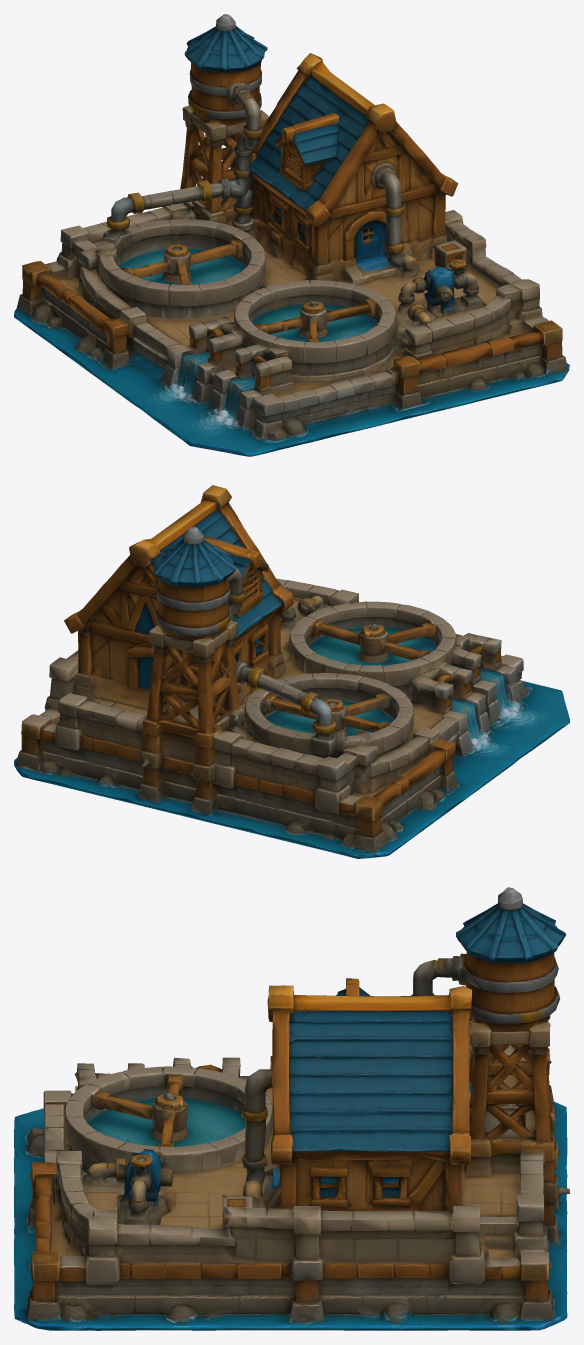
File: waterworks.glb
3 views of the same model, one above another, from view 1: azimuth 30°, elevation 25°; view 2: azimuth 150°, elevation 25°; view 3: azimuth 270°, elevation 25° (orthographic). The views are drawn at different scales.
Visible parts, largest first — view 1: tripo_node_45228bc5-6371-4fa9-b432-c7e5beaec382; view 2: tripo_node_45228bc5-6371-4fa9-b432-c7e5beaec382; view 3: tripo_node_45228bc5-6371-4fa9-b432-c7e5beaec382.
Boxes of the visible parts, x1=… form: tripo_node_45228bc5-6371-4fa9-b432-c7e5beaec382: x1=14, y1=14, x2=569, y2=456; tripo_node_45228bc5-6371-4fa9-b432-c7e5beaec382: x1=14, y1=485, x2=569, y2=858; tripo_node_45228bc5-6371-4fa9-b432-c7e5beaec382: x1=14, y1=887, x2=569, y2=1330.
Bounding box in the file's own units: 0.9821 × 0.6746 × 1.
Materials: 1 (1 with a texture image).
